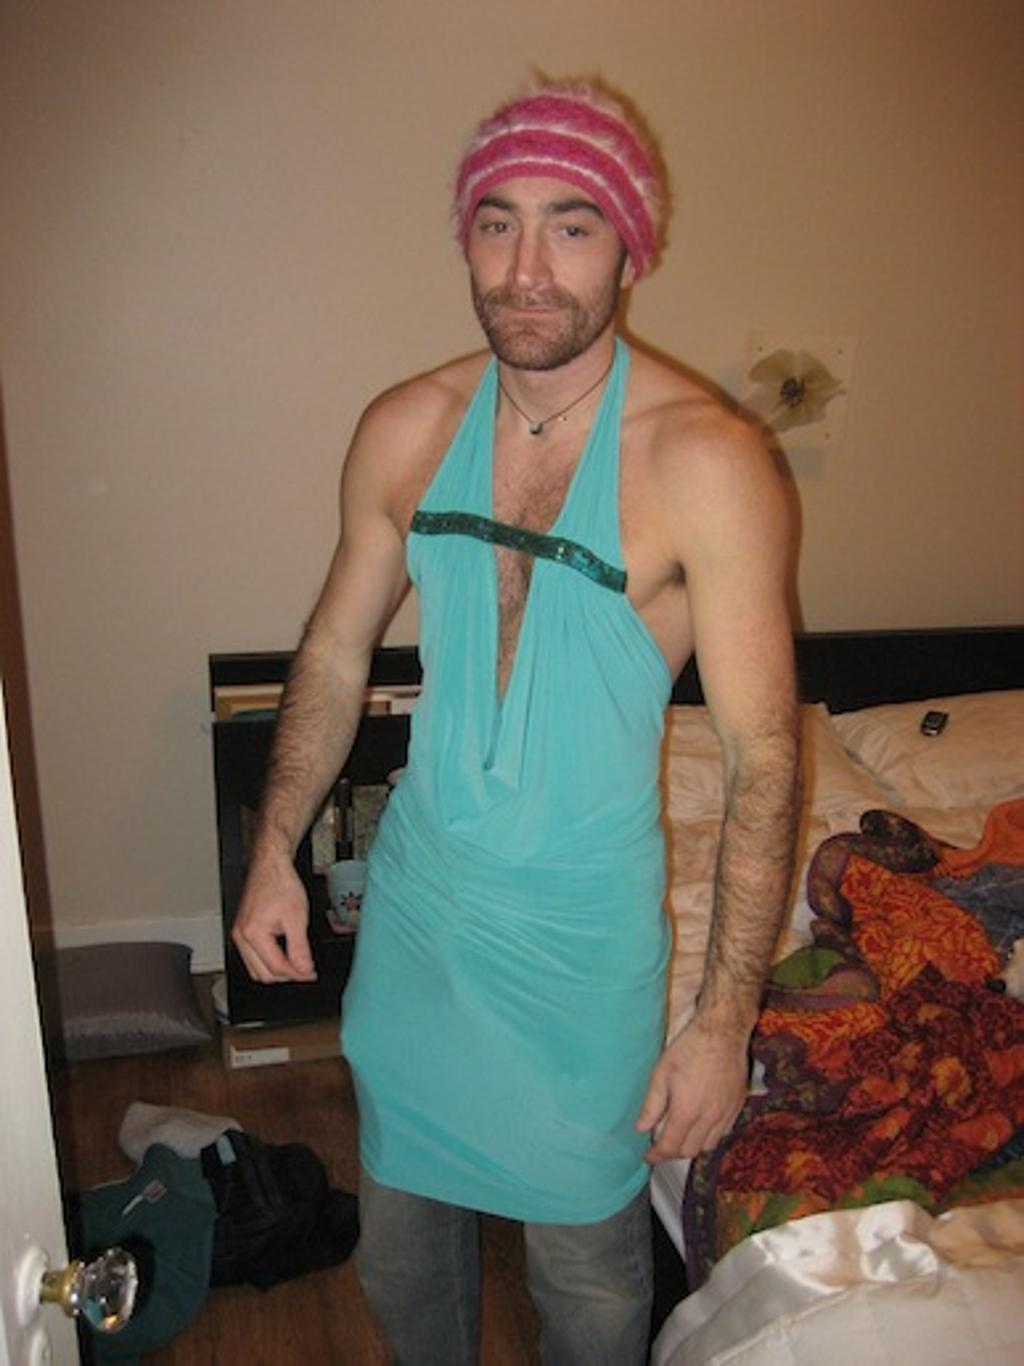face: (469, 160, 624, 365)
